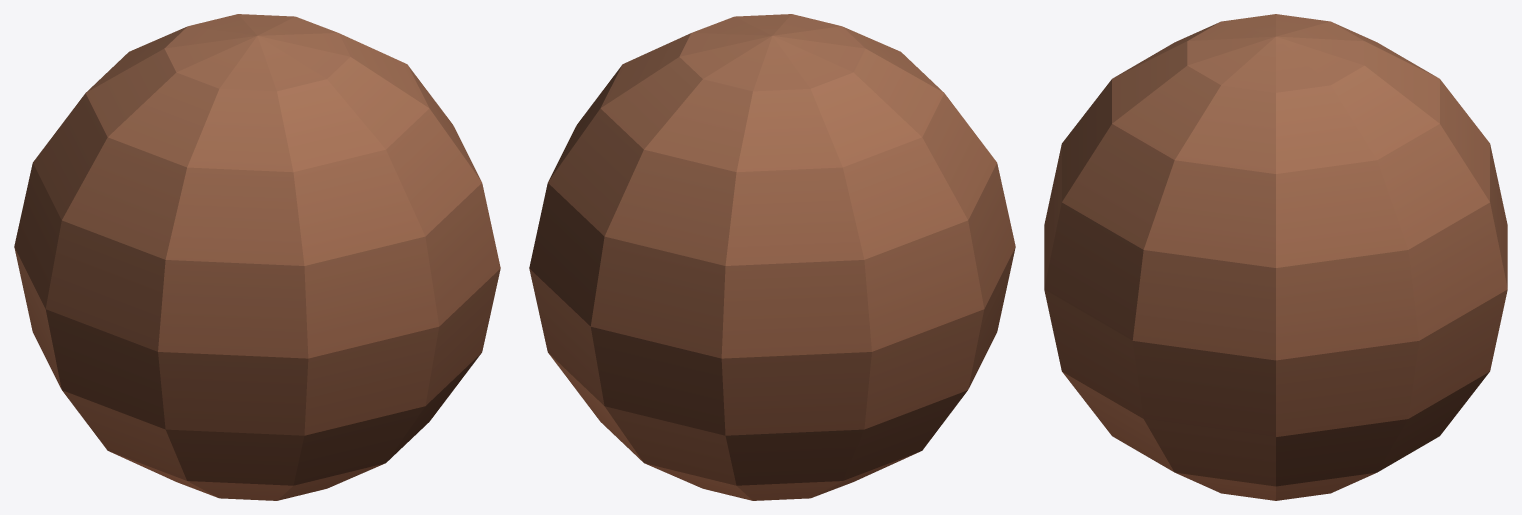
Rendered from Coconut.fbx.
The picture shows the model from 3 angles, left to right: view 1: azimuth 30°, elevation 25°; view 2: azimuth 150°, elevation 25°; view 3: azimuth 270°, elevation 25°; orthographic projection.
Parts seen in each view (by area): view 1: Coconut; view 2: Coconut; view 3: Coconut.
Boxes of the visible parts, left/top/right/bottom form: Coconut: left=14, top=14, right=500, bottom=500; Coconut: left=529, top=14, right=1015, bottom=500; Coconut: left=1044, top=14, right=1507, bottom=500.
Size of the model in its own units: 17.36 by 17.36 by 16.51.
